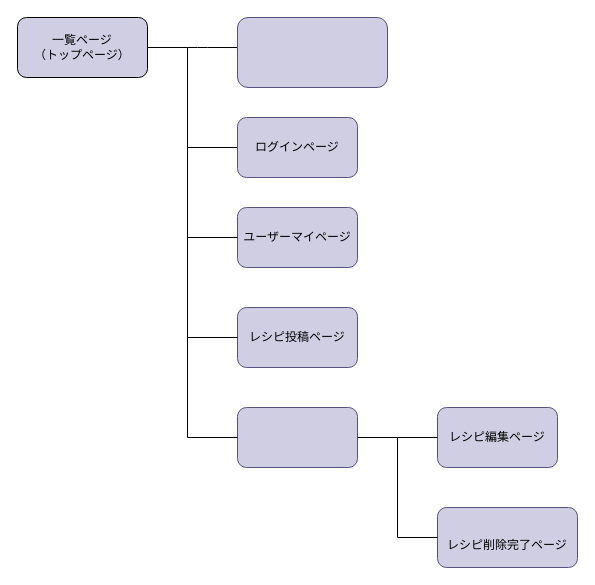
Image size: 595x585. Some labels were removed from this diagram. Each missing label, with the centre of its shape:
"ユーザー新規登録ページ" goes at pixel 312 52.
"レシピ詳細ページ" goes at pixel 297 437.
